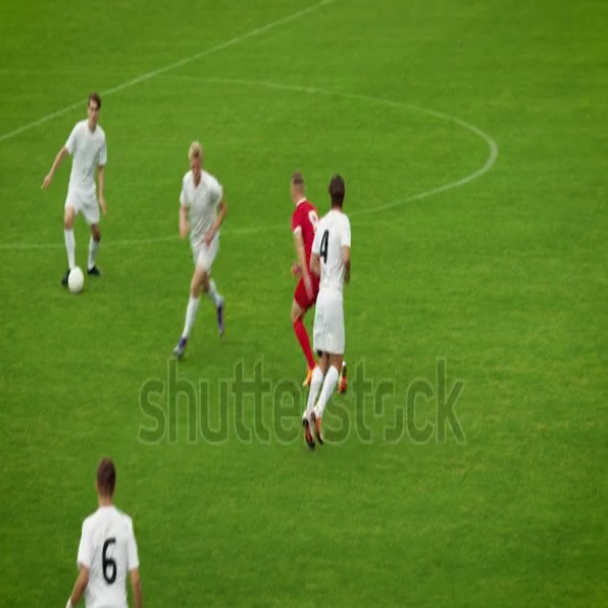ball: (68, 265, 85, 294)
